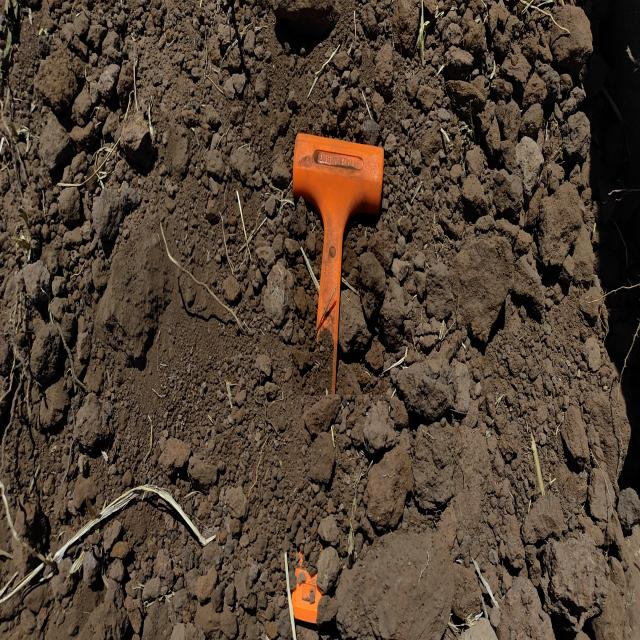Orange_hammer: (292, 130, 384, 395)
